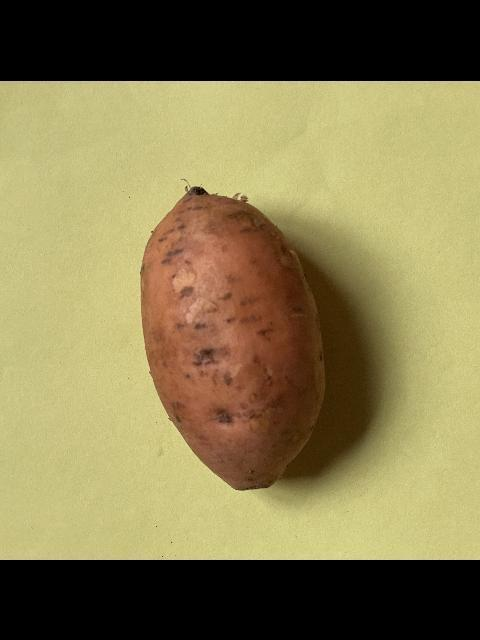sweetpotato: (137, 184, 328, 493)
